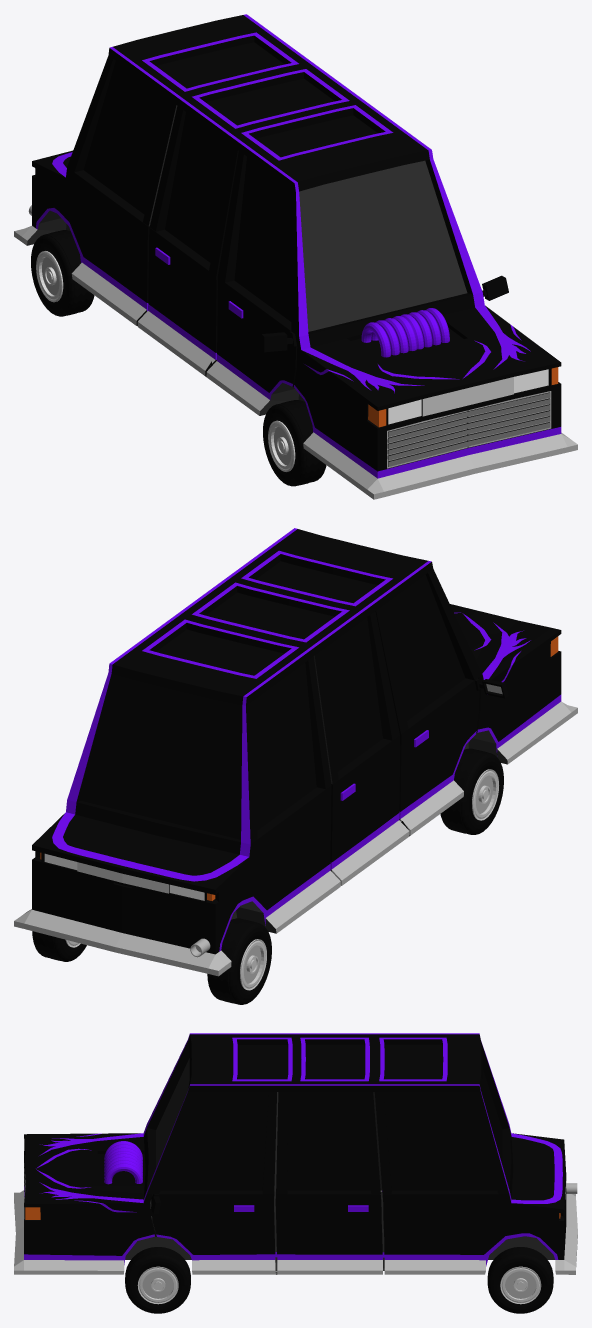
Rendered from CR-CAR-25B.fbx.
3 views of the same model, one above another, from view 1: azimuth 30°, elevation 25°; view 2: azimuth 150°, elevation 25°; view 3: azimuth 270°, elevation 25° (orthographic). The views are drawn at different scales.
Visible parts, largest first — view 1: BODY, WHEEL.001, WHEEL.004; view 2: BODY, WHEEL.004, WHEEL.001, WHEEL.002; view 3: BODY, WHEEL.002, WHEEL.003.
Boxes of the visible parts, x1=… form: BODY: x1=14, y1=14, x2=577, y2=499; WHEEL.001: x1=263, y1=400, x2=326, y2=486; WHEEL.004: x1=31, y1=230, x2=94, y2=316; BODY: x1=14, y1=528, x2=577, y2=976; WHEEL.004: x1=207, y1=918, x2=271, y2=1004; WHEEL.001: x1=440, y1=748, x2=503, y2=834; WHEEL.002: x1=32, y1=931, x2=86, y2=961; BODY: x1=14, y1=1033, x2=577, y2=1274; WHEEL.002: x1=487, y1=1247, x2=553, y2=1313; WHEEL.003: x1=125, y1=1247, x2=190, y2=1313.
Bounding box in the file's own units: 131 × 142 × 334.
